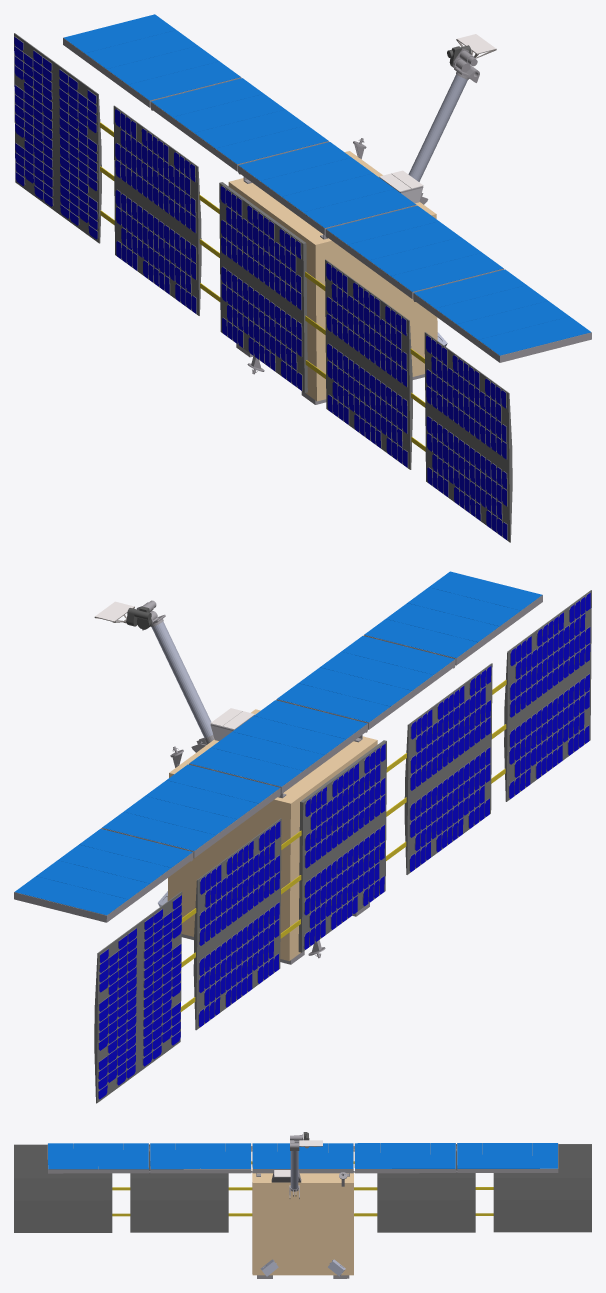
File: 3Dsatellite.glb
The picture shows the model from 3 angles, top to bottom: view 1: azimuth 30°, elevation 25°; view 2: azimuth 150°, elevation 25°; view 3: azimuth 270°, elevation 25°; orthographic projection. The views are drawn at different scales.
Parts seen in each view (by area): view 1: SatelliteBus, SolarPanels, GimbalArm; view 2: SatelliteBus, SolarPanels, GimbalArm; view 3: SatelliteBus, GimbalArm.
Boxes of the visible parts, box(x1,y1,x2,y2) form: SatelliteBus: box(14, 14, 591, 542); SolarPanels: box(14, 37, 507, 540); GimbalArm: box(408, 48, 479, 196); SatelliteBus: box(14, 571, 591, 1103); SolarPanels: box(98, 593, 590, 1099); GimbalArm: box(136, 600, 214, 744); SatelliteBus: box(14, 1143, 591, 1278); GimbalArm: box(290, 1134, 303, 1196).
Bounding box in the file's own units: 1.04 × 1.24 × 3.8.
